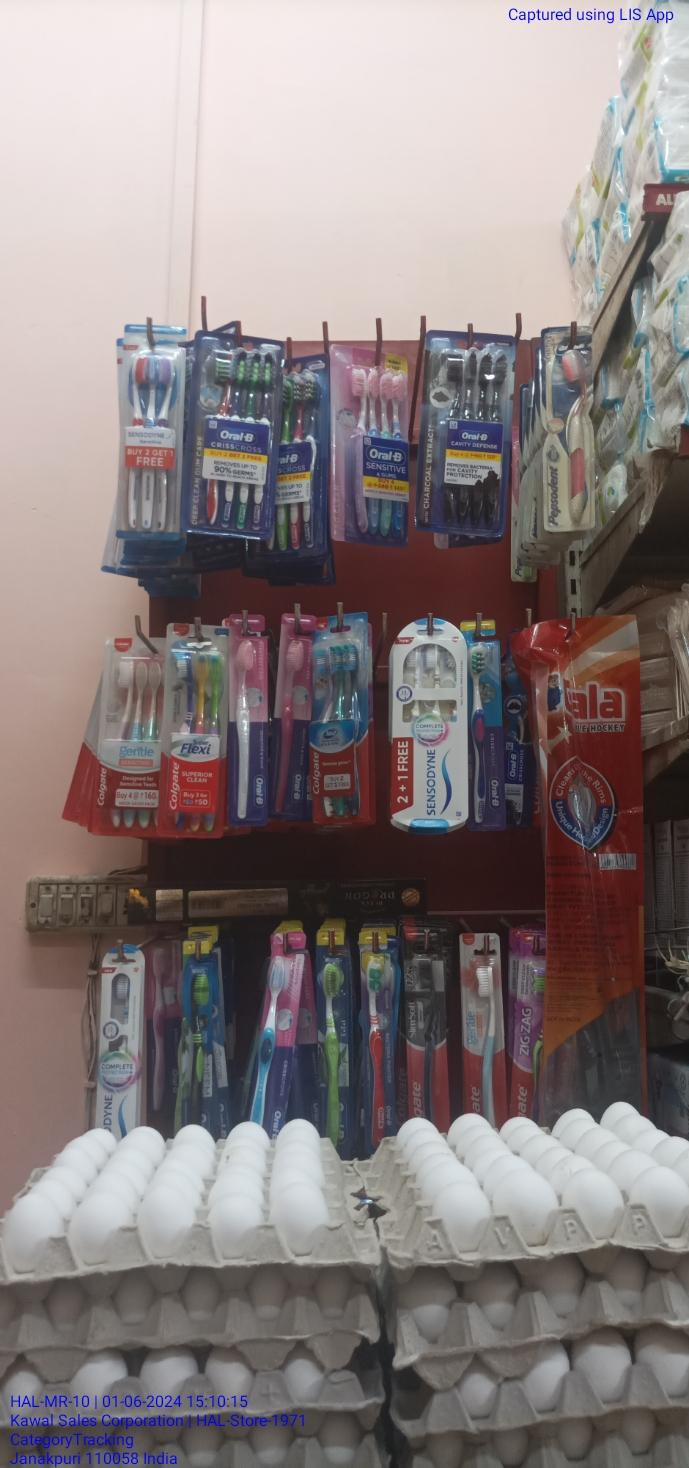10: (328, 344, 412, 548)
4: (389, 616, 468, 826)
soap: (401, 926, 453, 1118)
